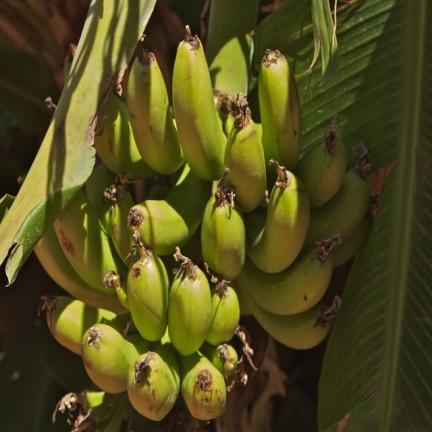banana: (234, 235, 340, 315), (173, 26, 226, 181), (34, 226, 127, 313), (54, 189, 127, 293), (129, 164, 211, 255), (303, 142, 371, 251), (127, 49, 184, 175), (247, 160, 310, 273), (40, 295, 130, 355), (94, 92, 155, 179), (258, 50, 301, 170), (201, 167, 246, 280), (206, 0, 259, 94), (225, 94, 266, 212), (295, 116, 347, 207), (81, 324, 149, 393), (168, 248, 211, 356), (127, 232, 169, 341), (250, 298, 332, 350), (127, 343, 180, 420), (180, 351, 226, 420), (104, 174, 134, 264), (85, 157, 116, 234), (206, 280, 240, 345), (332, 215, 373, 267), (200, 343, 238, 379), (103, 270, 128, 310), (146, 175, 170, 200), (63, 44, 76, 82)
